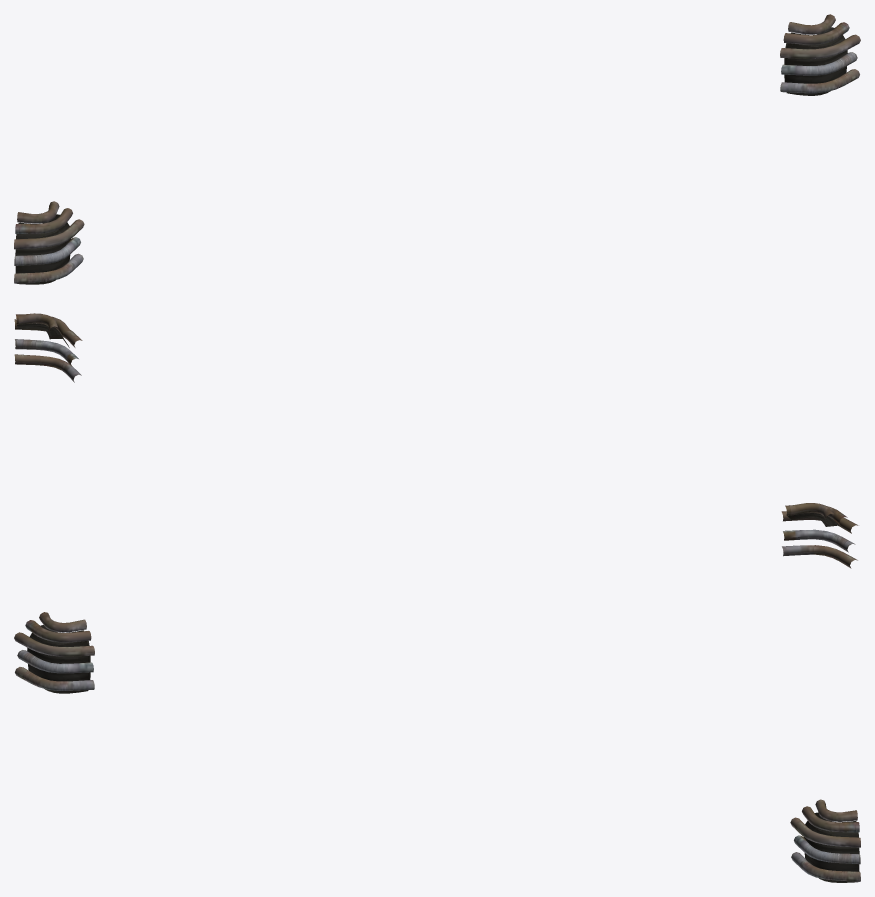
Rendered from submarine_greeble_300x200_04_outercorner_01_90bend.glb.
The picture shows the model from 3 angles, top to bottom: view 1: azimuth 30°, elevation 25°; view 2: azimuth 150°, elevation 25°; view 3: azimuth 330°, elevation 25°; orthographic projection.
Parts seen in each view (by area): view 1: submarine_greeble_300x200_04_outercorner_01_90bend_LOD0, submarine_greeble_300x200_04_outercorner_02_90bend_LOD0; view 2: submarine_greeble_300x200_04_outercorner_02_90bend_LOD0, submarine_greeble_300x200_04_outercorner_01_90bend_LOD0; view 3: submarine_greeble_300x200_04_outercorner_02_90bend_LOD0, submarine_greeble_300x200_04_outercorner_01_90bend_LOD0.
Boxes of the visible parts, <box> form: submarine_greeble_300x200_04_outercorner_01_90bend_LOD0: <box>780,14,860,95</box>; submarine_greeble_300x200_04_outercorner_02_90bend_LOD0: <box>14,201,84,284</box>; submarine_greeble_300x200_04_outercorner_02_90bend_LOD0: <box>781,503,858,568</box>; submarine_greeble_300x200_04_outercorner_01_90bend_LOD0: <box>14,313,82,382</box>; submarine_greeble_300x200_04_outercorner_02_90bend_LOD0: <box>14,612,94,693</box>; submarine_greeble_300x200_04_outercorner_01_90bend_LOD0: <box>790,799,860,882</box>.
Size of the model in its own units: 2.8 by 0.218 by 0.1363.
Materials: 2 (2 with a texture image).
